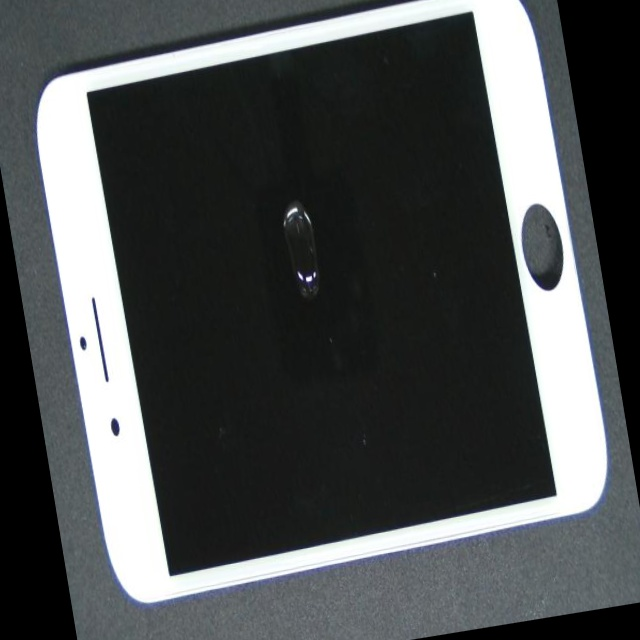oil: (159, 95, 486, 383)
